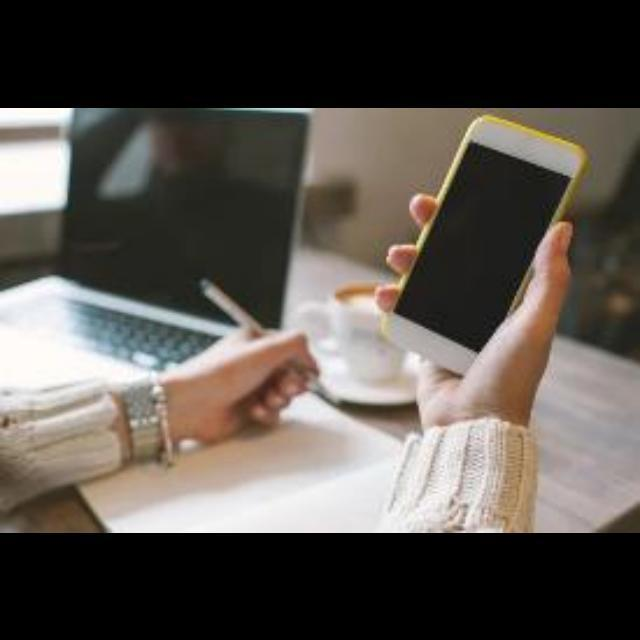phone: (401, 141, 561, 357)
